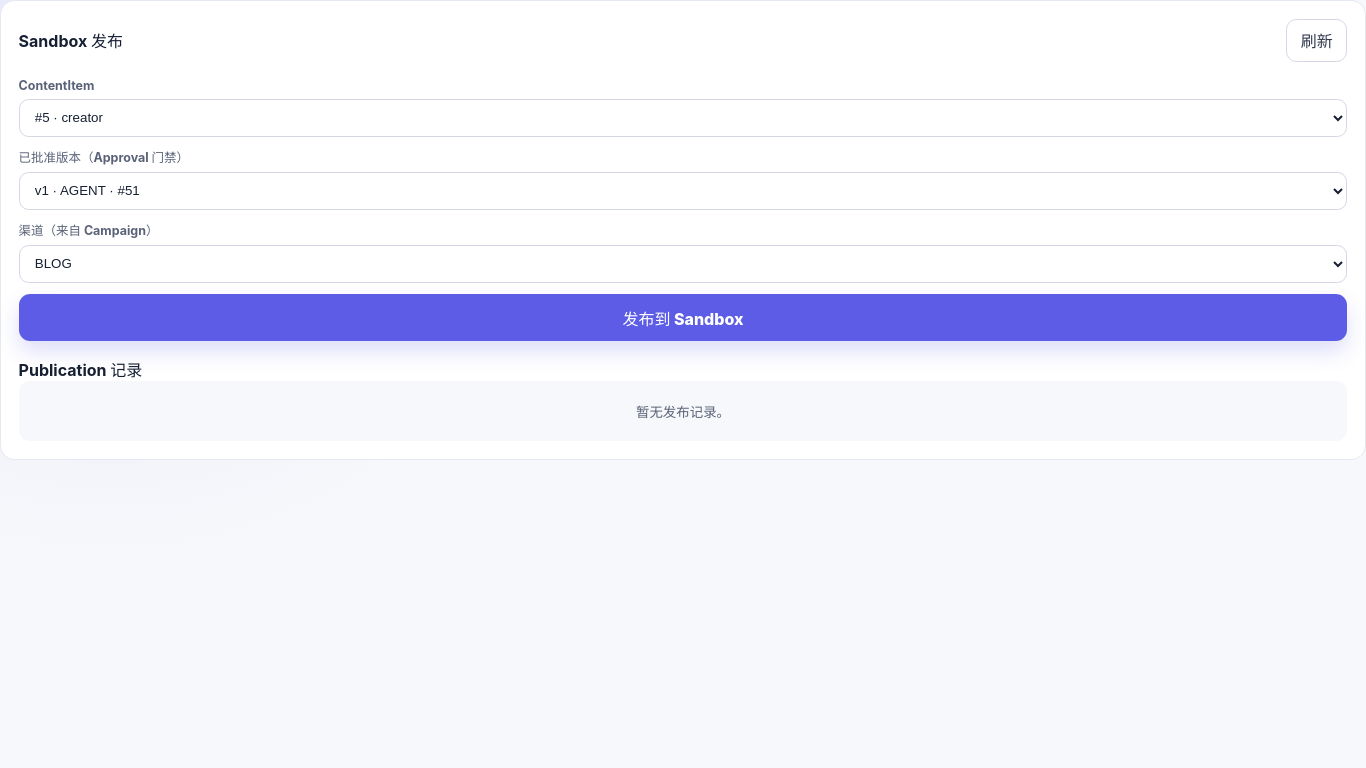
PublishPanel › polls with a bounded interval and shows the PUBLISHED receipt
Select "v1 · AGENT · #51" in the dropdown with test id "publish-version-select" at x=683, y=191, box top-left (19, 172), bottom-right (1347, 210)
Click the button with test id "publish-submit" at x=683, y=318, box top-left (19, 294), bottom-right (1347, 341)
Wait 4000 ms
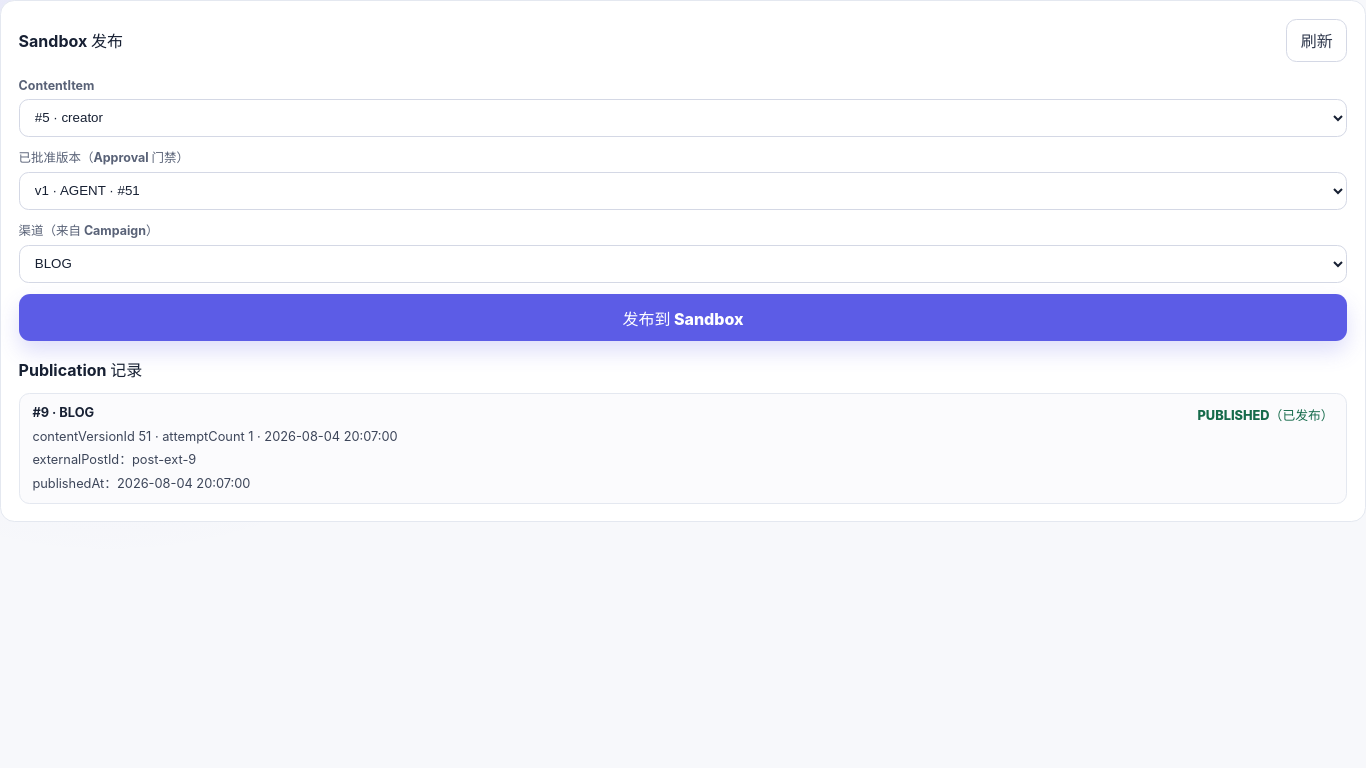
Result: the text "PUBLISHED" is shown at top-left (1198, 408), bottom-right (1334, 423)
Result: the text "post-ext-9" is shown at top-left (32, 452), bottom-right (196, 467)
